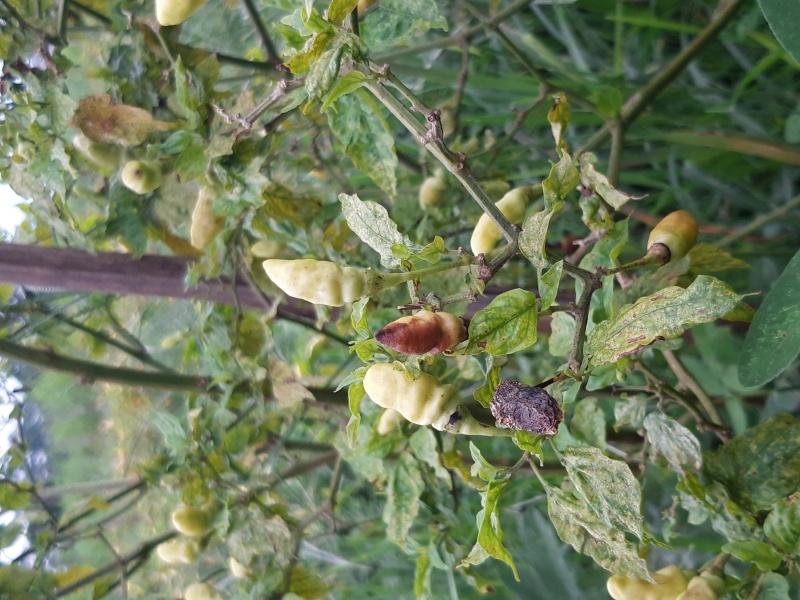antraknosa: (490, 379, 564, 433), (377, 310, 462, 356)
cabai_normal: (363, 360, 465, 429), (261, 255, 367, 307), (471, 186, 531, 258), (606, 562, 688, 600), (649, 209, 698, 262), (188, 184, 224, 251), (122, 159, 168, 194)
